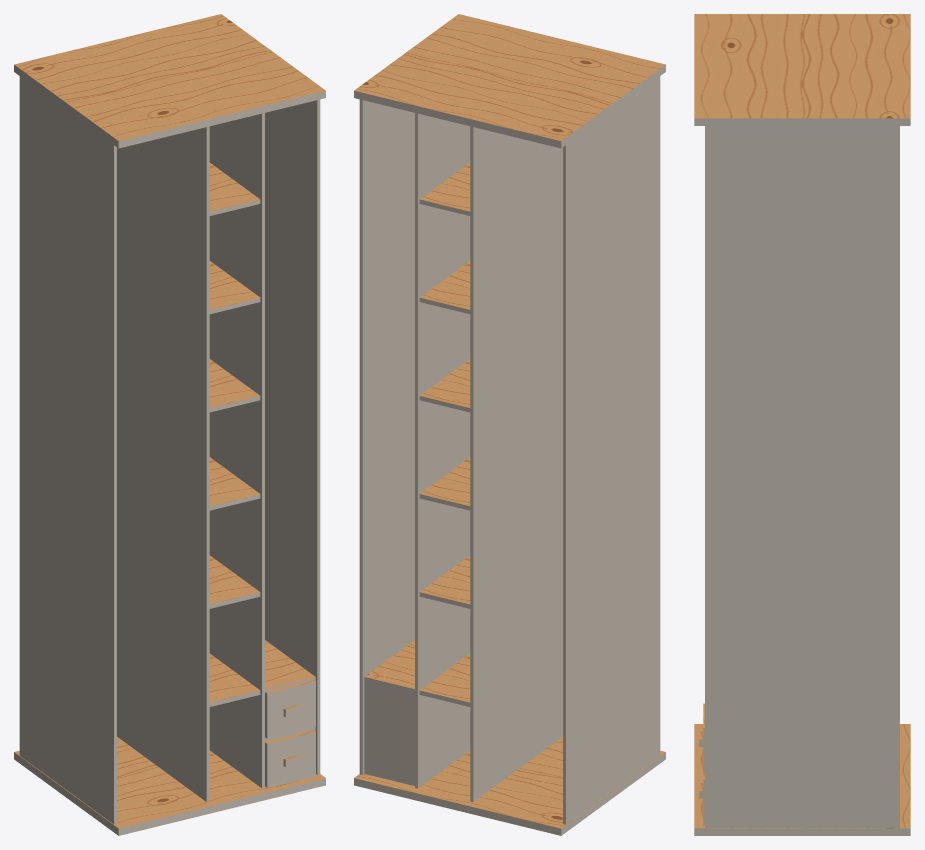
File: pantry_c.glb
3 renders of one model, left to right at view 1: azimuth 30°, elevation 25°; view 2: azimuth 150°, elevation 25°; view 3: azimuth 270°, elevation 25°, orthographic. The views are drawn at different scales.
Visible parts, largest first — view 1: body; view 2: body; view 3: body.
Part boxes in pixels (x1=…): body: x1=14, y1=14, x2=325, y2=835; body: x1=354, y1=14, x2=665, y2=835; body: x1=694, y1=14, x2=910, y2=835.
Size of the model in its own units: 0.64 by 2.05 by 0.56.
Materials: 2 (1 with a texture image).
